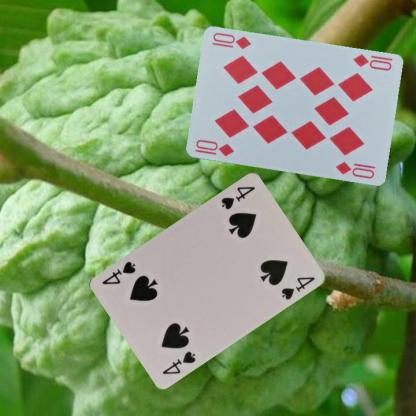10d: (192, 137, 235, 158), (350, 52, 394, 72)
4s: (217, 183, 257, 211), (159, 348, 197, 375)
